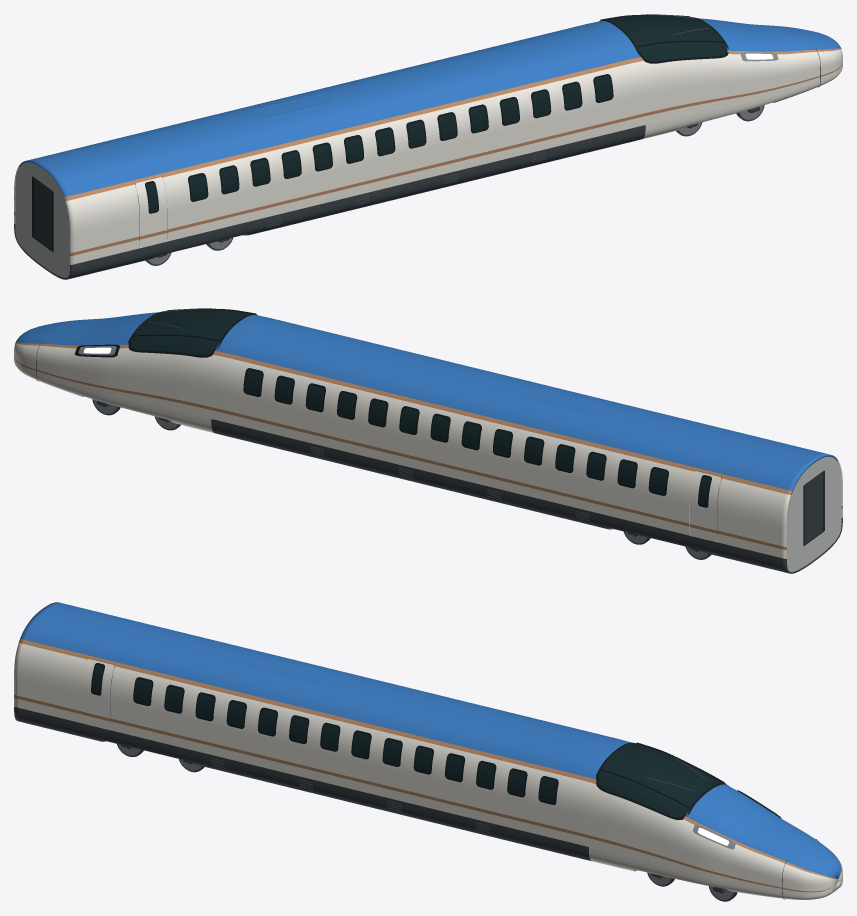
File: express-short-cab.glb
The picture shows the model from 3 angles, top to bottom: view 1: azimuth 30°, elevation 25°; view 2: azimuth 150°, elevation 25°; view 3: azimuth 330°, elevation 25°; orthographic projection.
Visible parts, largest first — view 1: body, door_right_rear; view 2: body, door_left_rear; view 3: body, door_right_rear.
Boxes of the visible parts, x1,y1,x2,y2 form: body: [14, 14, 842, 279]; door_right_rear: [135, 177, 167, 247]; body: [14, 308, 842, 573]; door_left_rear: [689, 471, 721, 541]; body: [14, 602, 842, 899]; door_right_rear: [82, 659, 114, 729].
Size of the model in its own units: 27 by 3.65 by 3.41.
